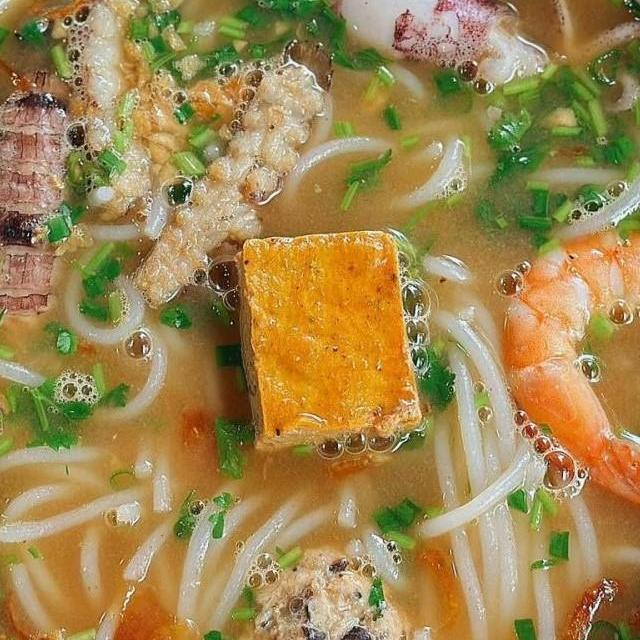bun: (361, 246, 613, 640), (0, 241, 204, 640), (278, 49, 640, 259), (170, 456, 419, 640)
bun hai san: (0, 0, 640, 640)
dau hu: (226, 221, 438, 461)
muc: (257, 0, 559, 100)
tom: (486, 221, 640, 539)
tom tit: (122, 29, 350, 317), (62, 0, 213, 224), (0, 59, 89, 335)
vien moc: (217, 538, 423, 640)
